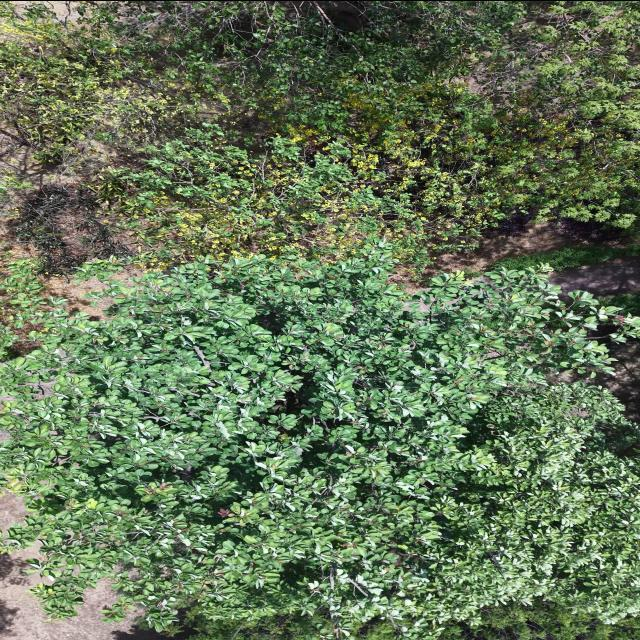DRY_AREA: (0, 115, 148, 273), (0, 186, 146, 319), (392, 214, 637, 292), (0, 545, 190, 639), (0, 545, 189, 639), (0, 545, 188, 639), (395, 213, 637, 286), (0, 545, 186, 639), (0, 121, 117, 270), (0, 545, 185, 639), (0, 545, 168, 639), (415, 214, 637, 280), (0, 181, 149, 274), (0, 545, 130, 639), (424, 215, 633, 273), (0, 124, 86, 252), (426, 220, 570, 272), (557, 340, 639, 422), (562, 336, 639, 420), (0, 120, 77, 187), (582, 339, 639, 421), (549, 256, 639, 300), (592, 340, 639, 422), (550, 256, 639, 296), (40, 274, 113, 320), (42, 275, 113, 319), (43, 275, 113, 319), (46, 275, 112, 319), (113, 626, 192, 639), (43, 1, 79, 20)
VEGETATION_TREE: (0, 1, 639, 639), (0, 257, 639, 637), (0, 1, 638, 264), (440, 601, 639, 639), (441, 602, 639, 639), (186, 609, 327, 639), (496, 244, 639, 269)
